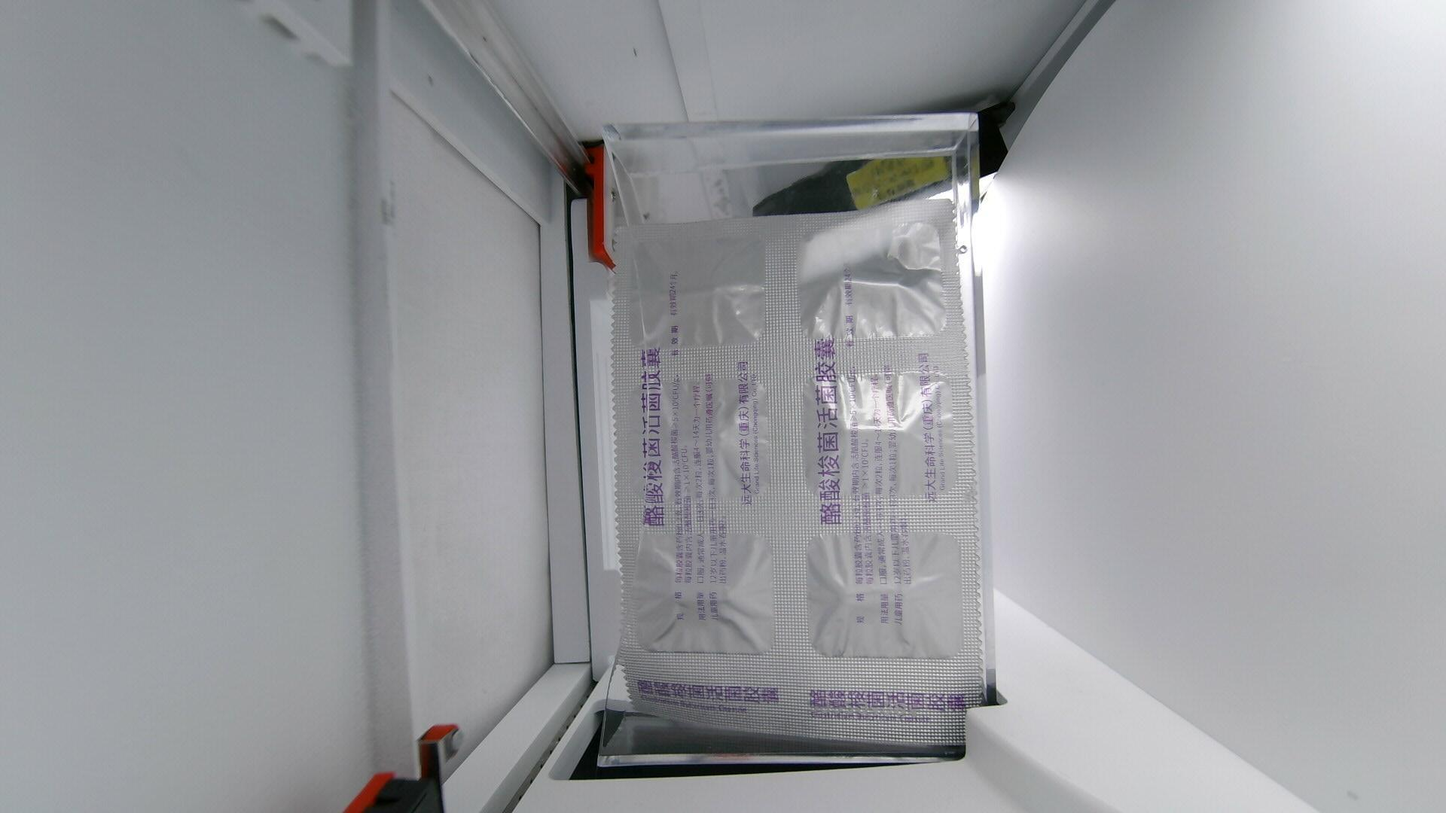Pill Back: (807, 522, 965, 652), (807, 371, 947, 503), (798, 229, 951, 337), (632, 534, 776, 648), (633, 373, 768, 492), (630, 233, 767, 349)
